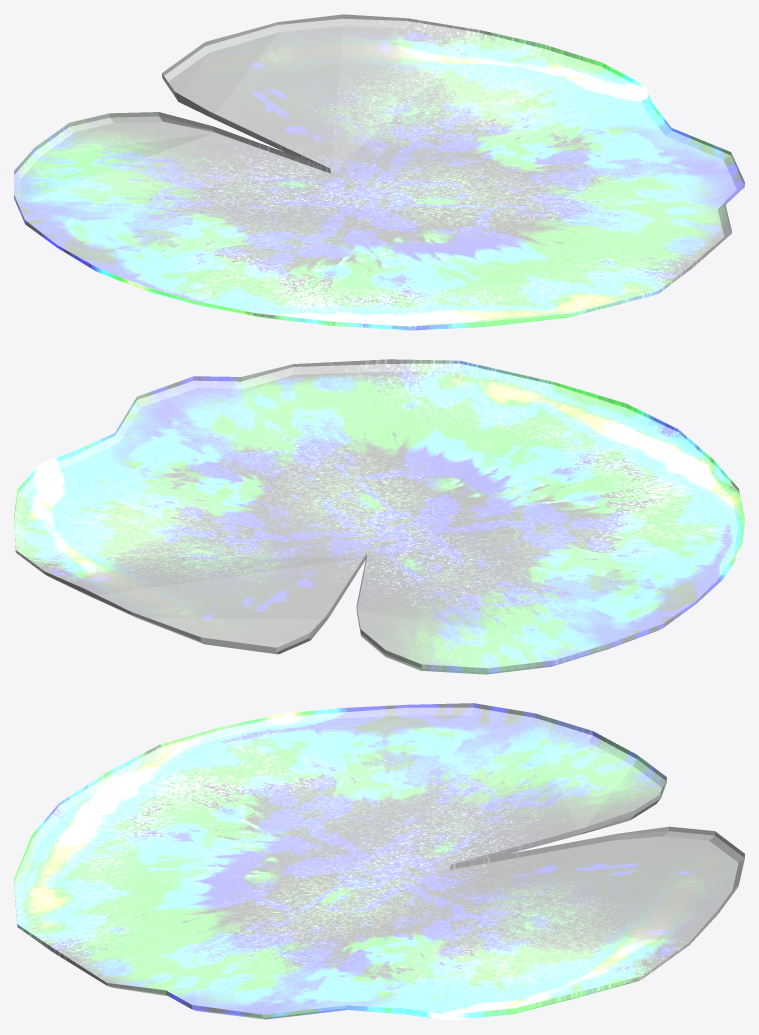
File: nenuphar.glb
3 views of the same model, one above another, from view 1: azimuth 30°, elevation 25°; view 2: azimuth 150°, elevation 25°; view 3: azimuth 270°, elevation 25° (orthographic). The views are drawn at different scales.
Visible parts, largest first — view 1: nénuphar1; view 2: nénuphar1; view 3: nénuphar1.
Part boxes in pixels (<box>): nénuphar1: <box>14,14,744,330</box>; nénuphar1: <box>14,359,744,674</box>; nénuphar1: <box>14,703,744,1020</box>.
Bounding box in the file's own units: 3.59 × 0.1756 × 3.61.
